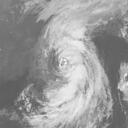cyclone: (48, 36, 95, 86)
